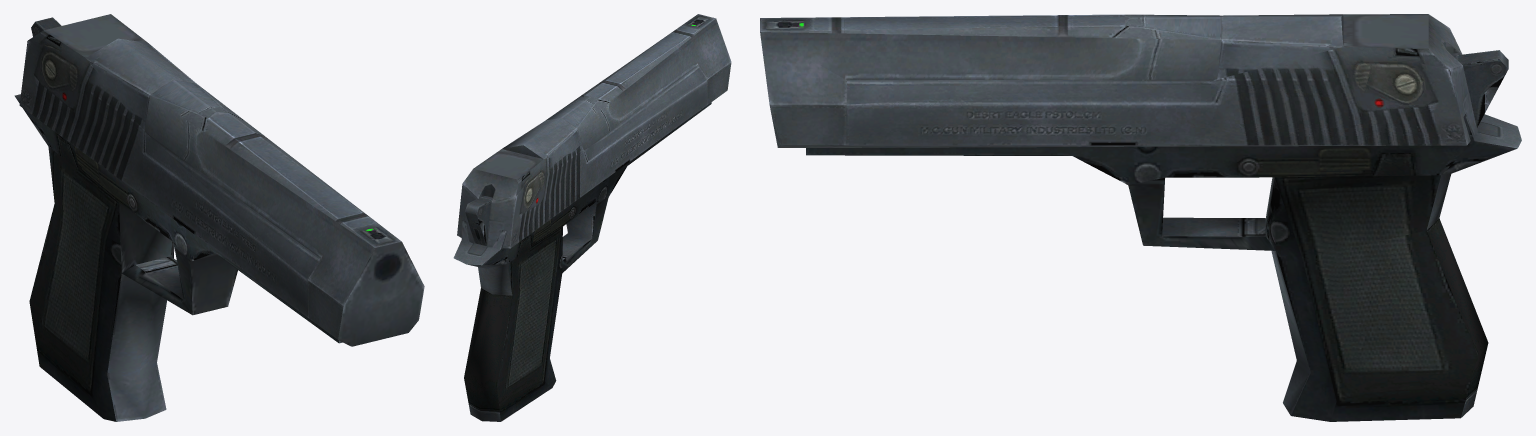
File: Pistol_sq_03_lod2_LOD_(000075).glb
The picture shows the model from 3 angles, left to right: view 1: azimuth 30°, elevation 25°; view 2: azimuth 150°, elevation 25°; view 3: azimuth 270°, elevation 25°; orthographic projection. The views are drawn at different scales.
Parts seen in each view (by area): view 1: sq_03_lod2; view 2: sq_03_lod2; view 3: sq_03_lod2.
Boxes of the visible parts, x1,y1,x2,y2 form: sq_03_lod2: (14,14,424,421); sq_03_lod2: (453,14,731,421); sq_03_lod2: (760,14,1521,421).
Bounding box in the file's own units: 0.0487 × 0.2091 × 0.3708.
Materials: 1 (1 with a texture image).
